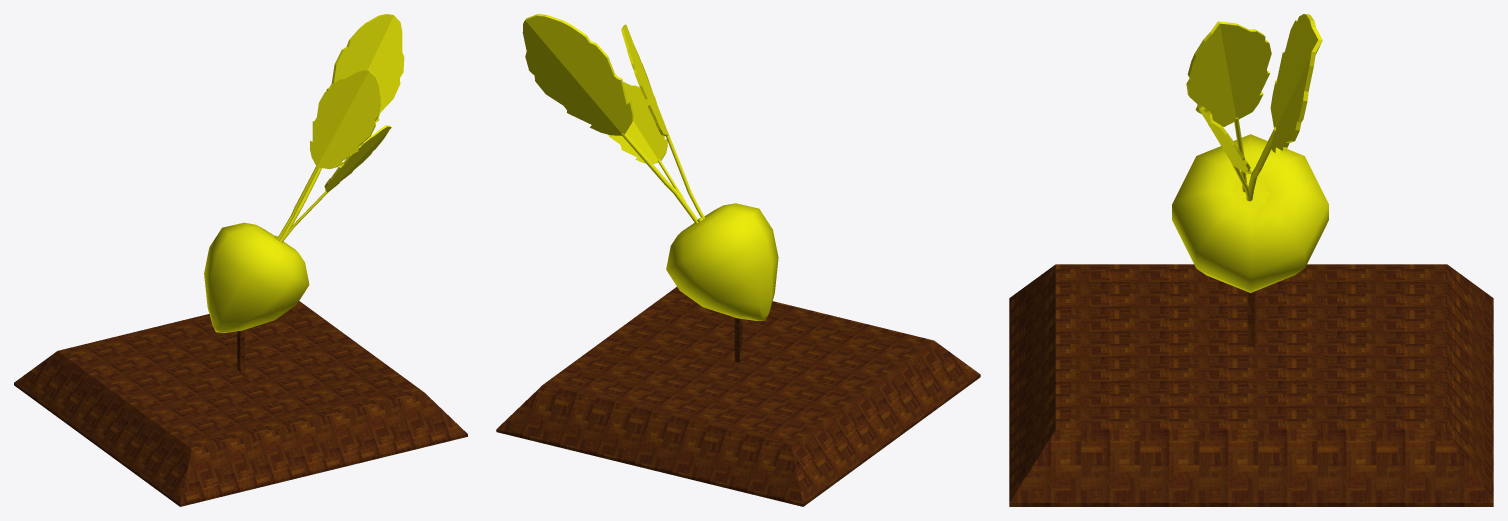
Rendered from Tolophy_Stage1.fbx.
The picture shows the model from 3 angles, left to right: view 1: azimuth 30°, elevation 25°; view 2: azimuth 150°, elevation 25°; view 3: azimuth 270°, elevation 25°; orthographic projection. The views are drawn at different scales.
Visible parts, largest first — view 1: Pertoce; view 2: Pertoce; view 3: Pertoce.
Part boxes in pixels (left/top/right/bottom): Pertoce: left=14, top=14, right=467, bottom=506; Pertoce: left=496, top=14, right=980, bottom=506; Pertoce: left=1009, top=14, right=1493, bottom=506.
Bounding box in the file's own units: 168 × 169 × 149.
